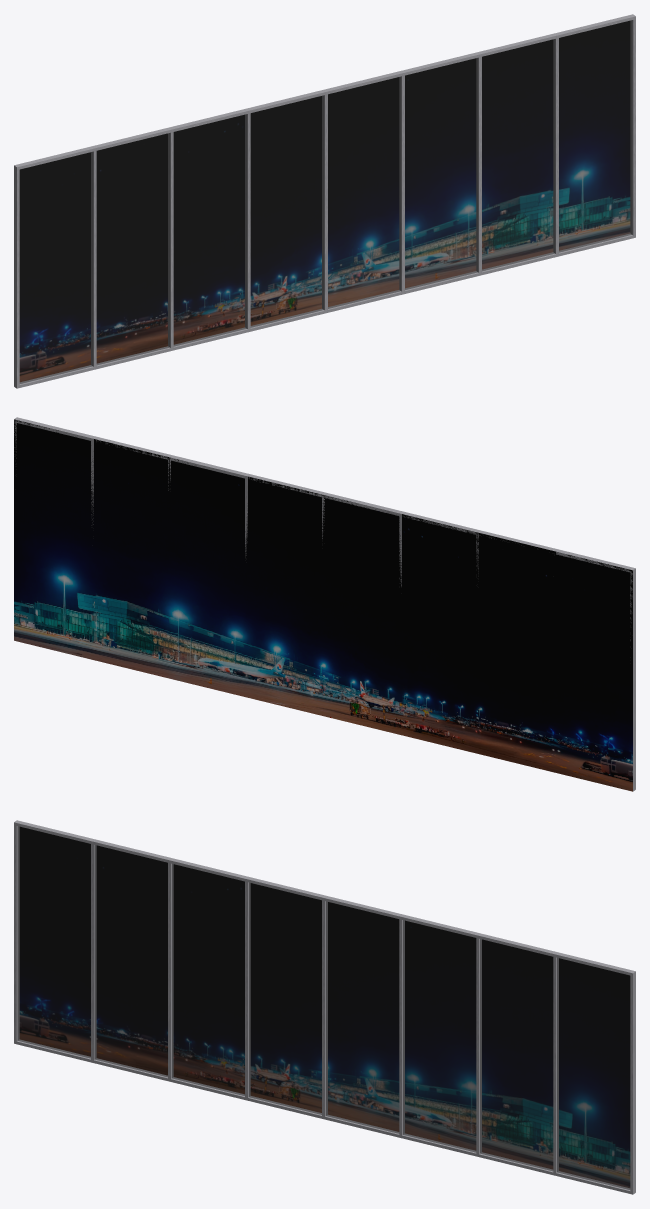
File: gatesWindow.fbx
3 views of the same model, one above another, from view 1: azimuth 30°, elevation 25°; view 2: azimuth 150°, elevation 25°; view 3: azimuth 330°, elevation 25° (orthographic).
Visible parts, largest first — view 1: cortado; view 2: cortado; view 3: cortado.
Boxes of the visible parts, x1,y1,x2,y2 form: cortado: (14,14,635,388); cortado: (14,417,635,791); cortado: (14,820,635,1194).
Size of the model in its own units: 1464 by 500 by 11.84.
3 materials, 2 textured.
